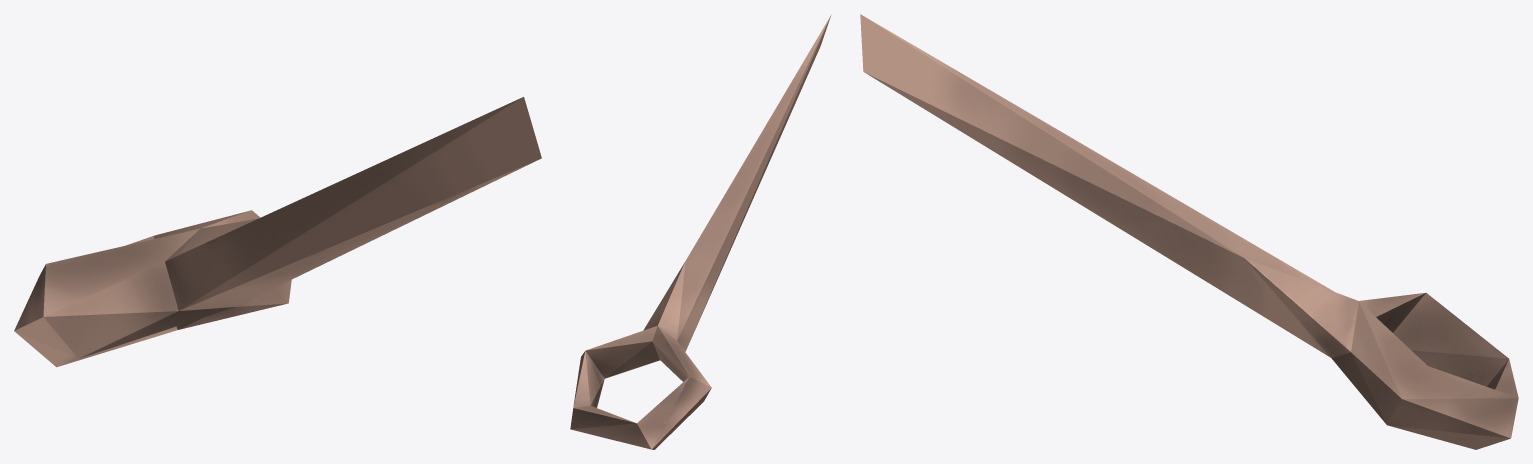
File: Torch_01_Holder.fbx
3 views of the same model, side by side, from view 1: azimuth 30°, elevation 25°; view 2: azimuth 150°, elevation 25°; view 3: azimuth 270°, elevation 25° (orthographic). The views are drawn at different scales.
Parts seen in each view (by area): view 1: Torch_01_Holder; view 2: Torch_01_Holder; view 3: Torch_01_Holder.
Part boxes in pixels (box(x1,y1,x2,y2)): Torch_01_Holder: box(14, 97, 541, 367); Torch_01_Holder: box(570, 15, 831, 449); Torch_01_Holder: box(860, 14, 1518, 449).
Bounding box in the file's own units: 9.9 × 20.52 × 29.58.
1 material, 1 textured.
